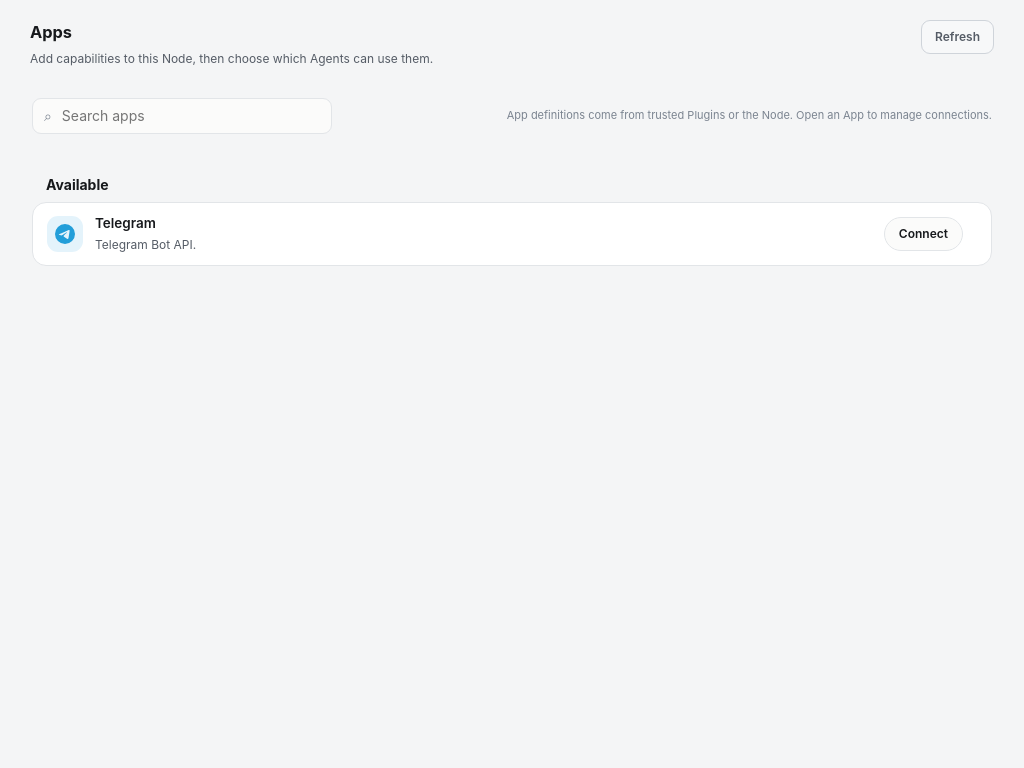
Test: Extensions settings › installs a direct App starter before opening its credential form
Click the button "Connect": click(923, 234) left=884, top=217, right=963, bottom=251
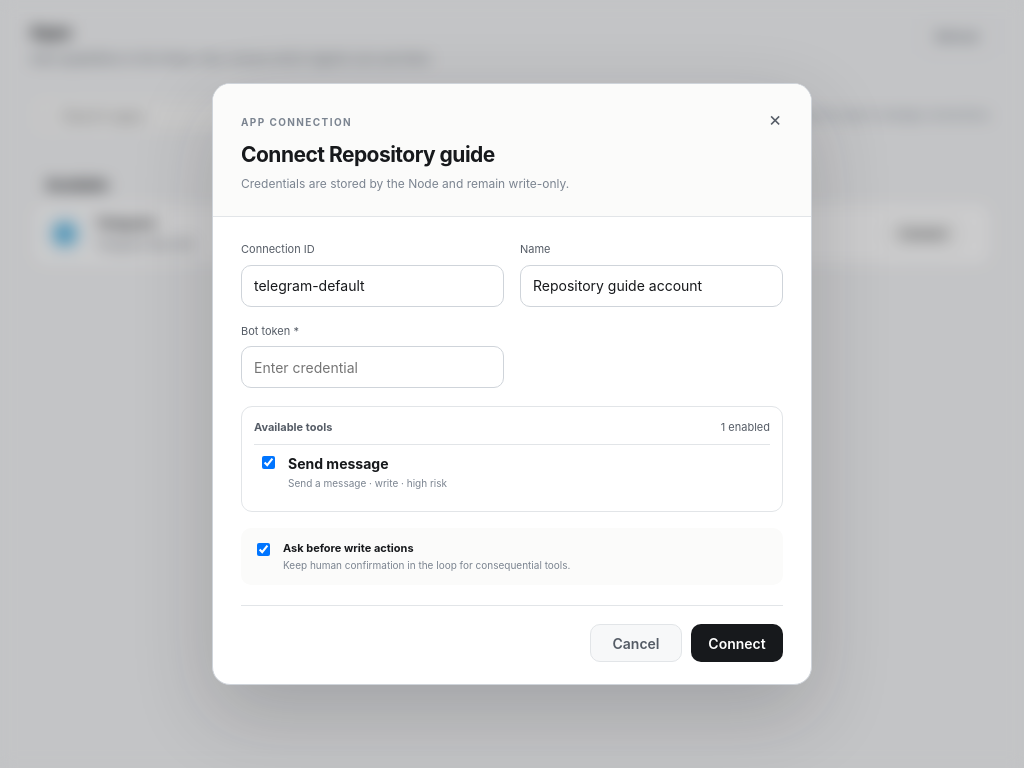
Expected: the password field labelled "Bot token *" is shown, left=241, top=346, right=504, bottom=388
Expected: the field labelled "Connection ID" holds "telegram-default", left=241, top=264, right=504, bottom=306
